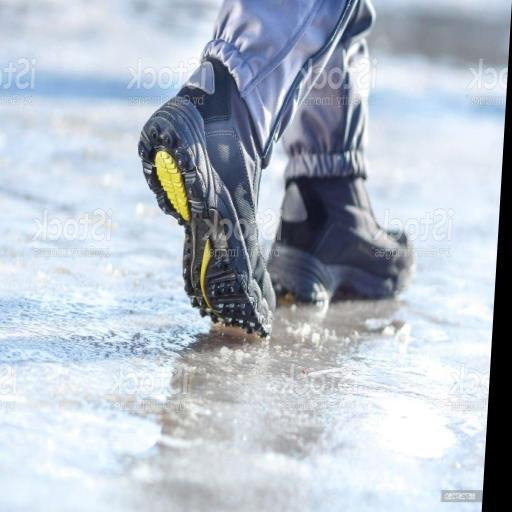safety_boots: (120, 62, 290, 355), (276, 172, 429, 321)
